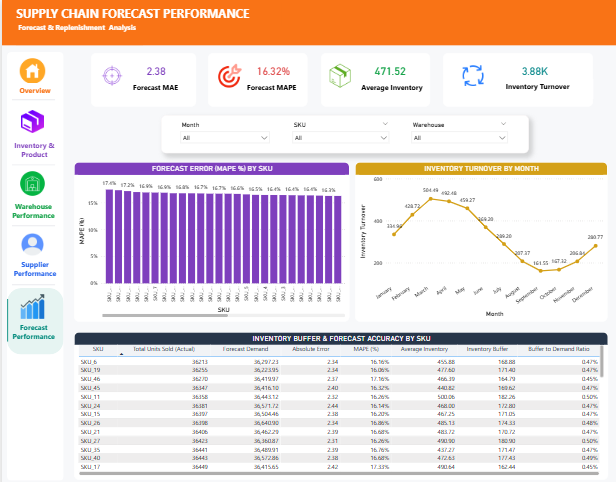

Layout of this report page (visuals, bound fields, positions):
{"tool":"powerbi","page":{"name":"Forecast Performance","canvas":[1400,1115],"ordinal":5},"visuals":[{"type":"shape","box":[0,0,1400,103.1],"z":0},{"type":"textbox","box":[28.3,7.5,606.6,51.9],"z":1000},{"type":"textbox","box":[31,45,286.8,57.4],"z":2000},{"type":"shape","box":[10.6,118.2,128.8,974.3],"z":3000},{"type":"image","box":[27.7,126.2,84.6,67.7],"z":4000},{"type":"textbox","box":[20,187.7,109.2,32.3],"z":5000},{"type":"image","box":[27.7,243.1,83.1,66.2],"z":6000},{"type":"shape","box":[23.1,360,98.5,30.8],"z":7000},{"type":"shape","box":[23.1,210.8,98.5,30.8],"z":8000},{"type":"textbox","box":[16.9,313.8,115.4,60],"z":9000},{"type":"image","box":[27.7,384.6,83.1,66.2],"z":10000},{"type":"textbox","box":[13.8,452.3,115.4,64.6],"z":11000},{"type":"shape","box":[23.1,498.5,98.5,30.8],"z":12000},{"type":"image","box":[27.7,523.1,83.1,66.2],"z":13000},{"type":"textbox","box":[15.4,584.6,118.5,61.5],"z":14000},{"type":"shape","box":[10.7,653.6,128.6,151.4],"z":15000},{"type":"shape","box":[23.1,632.3,98.5,30.8],"z":16000},{"type":"image","box":[27,663.1,83.1,66.2],"z":17000},{"type":"textbox","box":[13.8,726.2,116.9,58.5],"z":18000},{"type":"shape","box":[201.6,119.4,238.8,122.5],"z":19000},{"type":"shape","box":[468.2,119.4,226.4,122.5],"z":20000},{"type":"shape","box":[724,119.4,248.1,122.5],"z":21000},{"type":"shape","box":[1003.1,119.4,341.1,122.5],"z":22000},{"type":"card","fields":{"Values":["FactInventory.MAE"]},"box":[294.6,138,110.1,43.4],"z":23000},{"type":"card","fields":{"Values":["FactInventory.MAPE"]},"box":[561.2,138,110.1,43.4],"z":24000},{"type":"card","fields":{"Values":["FactInventory.Average Inventory"]},"box":[826.4,138,110.1,43.4],"z":25000},{"type":"card","fields":{"Values":["FactInventory.Inventory Turnover"]},"box":[1156.6,138,108.5,43.4],"z":26000},{"type":"textbox","box":[802.3,181.6,168.2,38.4],"z":27000},{"type":"textbox","box":[271.3,181.4,156.6,38.8],"z":28000},{"type":"textbox","box":[544.2,181.4,139.5,38.8],"z":29000},{"type":"image","box":[217.1,133.3,64,76],"z":30000},{"type":"image","box":[485.3,133.3,63.6,76],"z":31000},{"type":"image","box":[736.4,133.3,63.6,76],"z":32000},{"type":"textbox","box":[1089.9,179.8,252.7,45],"z":33000},{"type":"image","box":[1038.8,134,63.6,76],"z":34000},{"type":"shape","box":[361.2,260.5,835.7,86.8],"z":35000},{"type":"slicer","fields":{"Values":["DimDate.MonthName"]},"box":[395.3,269.8,223.3,68.2],"z":36000},{"type":"slicer","fields":{"Values":["DimProduct.SKU_ID"]},"box":[649.6,269.8,240.3,68.2],"z":37000},{"type":"slicer","fields":{"Values":["DimWarehouse.Warehouse_ID"]},"box":[920.9,269.8,238.8,68.2],"z":38000},{"type":"clusteredColumnChart","title":"FORECAST ERROR (MAPE %) BY SKU","fields":{"Category":["DimProduct.SKU_ID"],"Y":["FactInventory.MAPE"]},"box":[162.8,367.4,626.4,362.8],"z":39000},{"type":"lineChart","title":"INVENTORY TURNOVER BY MONTH","fields":{"Category":["DimDate.MonthName"],"Y":["FactInventory.Inventory Turnover"]},"box":[803.1,367.4,573.6,362.8],"z":40000},{"type":"tableEx","title":"INVENTORY BUFFER & FORECAST ACCURACY BY SKU","fields":{"Values":["DimProduct.SKU_ID","FactInventory.Total Units Sold","Sum(FactInventory.Demand_Forecast)","FactInventory.Absolute Error","FactInventory.MAPE","FactInventory.Average Inventory","FactInventory.Inventory Buffer","FactInventory.Buffer to Demand Ratio"]},"box":[162.8,755,1214,336.4],"z":41000},{"type":"shape","box":[3.5,680,16.5,97.1],"z":42000}]}

Visuals, with their boxes in screenshot pixels (x1, y1, x2, y2), scaled from the page's 1400x1115 canvas onto the 616x482 screenshot:
shape: select_region(0, 0, 615, 45)
textbox: select_region(12, 3, 279, 26)
textbox: select_region(14, 19, 140, 44)
shape: select_region(5, 51, 61, 472)
image: select_region(12, 55, 49, 84)
textbox: select_region(9, 81, 57, 95)
image: select_region(12, 105, 49, 134)
shape: select_region(10, 156, 54, 169)
shape: select_region(10, 91, 54, 104)
textbox: select_region(7, 136, 58, 162)
image: select_region(12, 166, 49, 195)
textbox: select_region(6, 196, 57, 223)
shape: select_region(10, 215, 54, 229)
image: select_region(12, 226, 49, 255)
textbox: select_region(7, 253, 59, 279)
shape: select_region(5, 283, 61, 348)
shape: select_region(10, 273, 54, 287)
image: select_region(12, 287, 48, 315)
textbox: select_region(6, 314, 58, 339)
shape: select_region(89, 52, 194, 105)
shape: select_region(206, 52, 306, 105)
shape: select_region(319, 52, 428, 105)
shape: select_region(441, 52, 591, 105)
card - FactInventory.MAE: select_region(130, 60, 178, 78)
card - FactInventory.MAPE: select_region(247, 60, 295, 78)
card - FactInventory.Average Inventory: select_region(364, 60, 412, 78)
card - FactInventory.Inventory Turnover: select_region(509, 60, 557, 78)
textbox: select_region(353, 79, 427, 95)
textbox: select_region(119, 78, 188, 95)
textbox: select_region(239, 78, 301, 95)
image: select_region(96, 58, 124, 90)
image: select_region(214, 58, 242, 90)
image: select_region(324, 58, 352, 90)
textbox: select_region(480, 78, 591, 97)
image: select_region(457, 58, 485, 91)
shape: select_region(159, 113, 527, 150)
slicer - DimDate.MonthName: select_region(174, 117, 272, 146)
slicer - DimProduct.SKU_ID: select_region(286, 117, 392, 146)
slicer - DimWarehouse.Warehouse_ID: select_region(405, 117, 510, 146)
"FORECAST ERROR (MAPE %) BY SKU" clusteredColumnChart: select_region(72, 159, 347, 316)
"INVENTORY TURNOVER BY MONTH" lineChart: select_region(353, 159, 606, 316)
"INVENTORY BUFFER & FORECAST ACCURACY BY SKU" tableEx: select_region(72, 326, 606, 472)
shape: select_region(2, 294, 9, 336)
